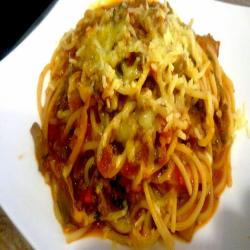bolonese_pasta: (42, 2, 236, 245)
